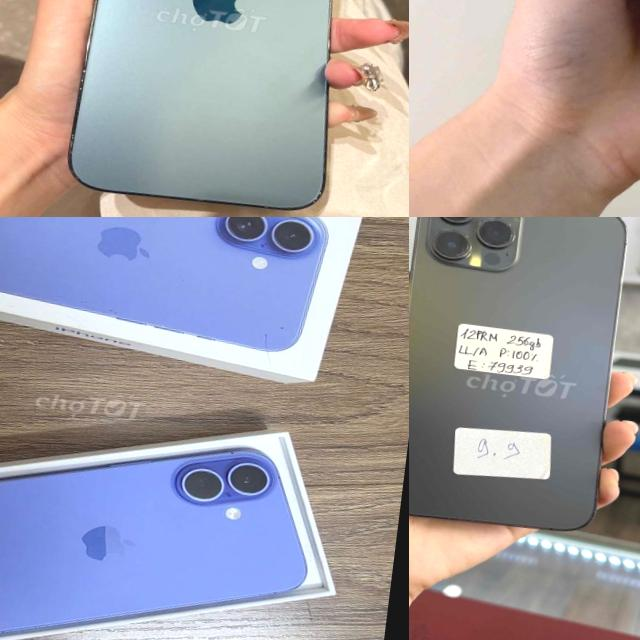gen_12_13: (409, 217, 638, 537), (63, 0, 375, 217)
gen_16: (0, 449, 306, 633)
